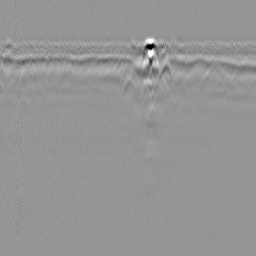cavity: (121, 72, 138, 100)
